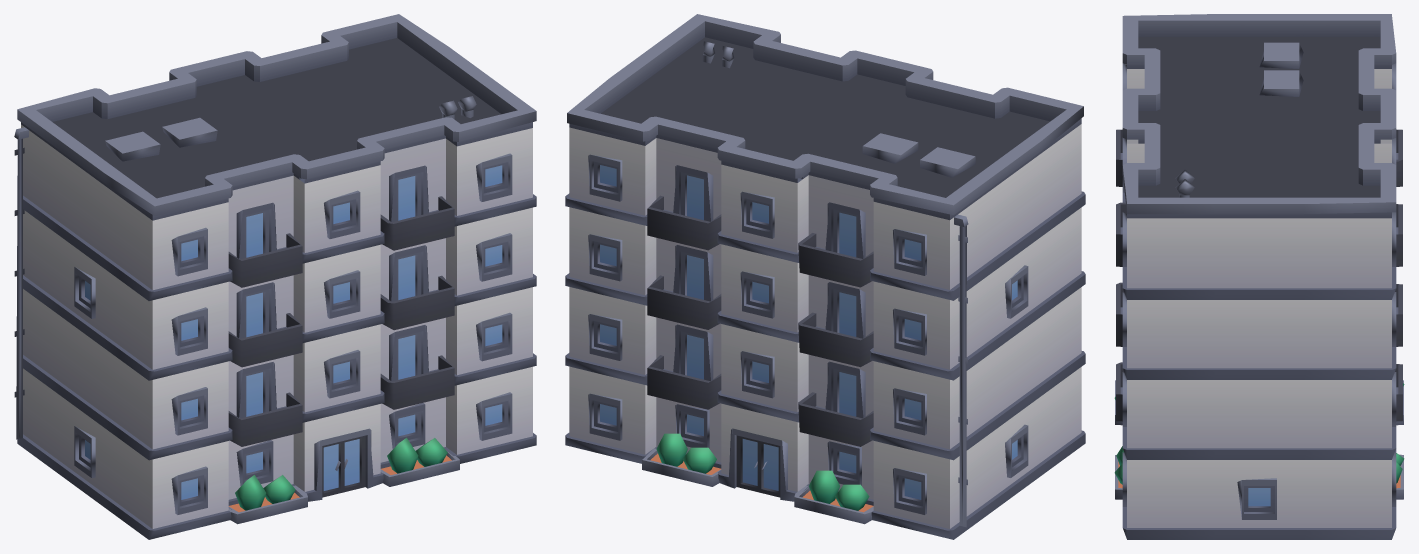
The model's file is 084_city-kit-commercial_building-j_card.glb.
3 views of the same model, side by side, from view 1: azimuth 30°, elevation 25°; view 2: azimuth 150°, elevation 25°; view 3: azimuth 270°, elevation 25° (orthographic).
Visible parts, largest first — view 1: building-j; view 2: building-j; view 3: building-j.
Boxes of the visible parts, x1,y1,x2,y2 form: building-j: (14, 14, 536, 539); building-j: (565, 14, 1085, 539); building-j: (1114, 14, 1404, 539).
Bounding box in the file's own units: 2.08 × 1.69 × 1.31.
Materials: 1 (1 with a texture image).
